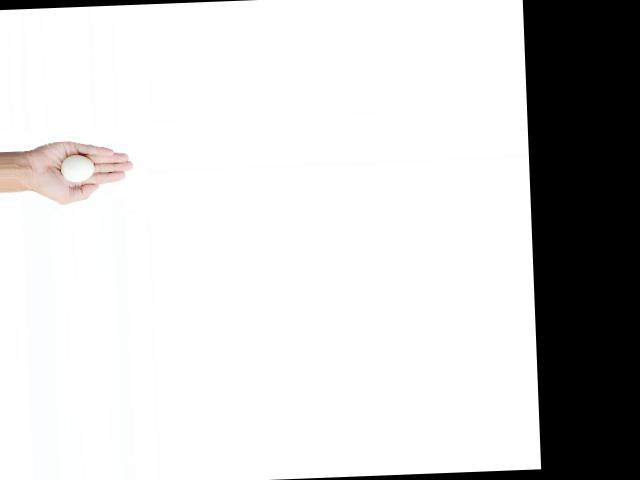egg: (61, 154, 96, 181)
